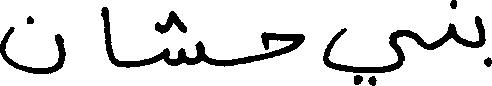X: (323, 23, 416, 85), (0, 11, 64, 78), (164, 6, 203, 70), (262, 27, 303, 64), (476, 11, 491, 71), (103, 2, 116, 70), (447, 0, 456, 46)
